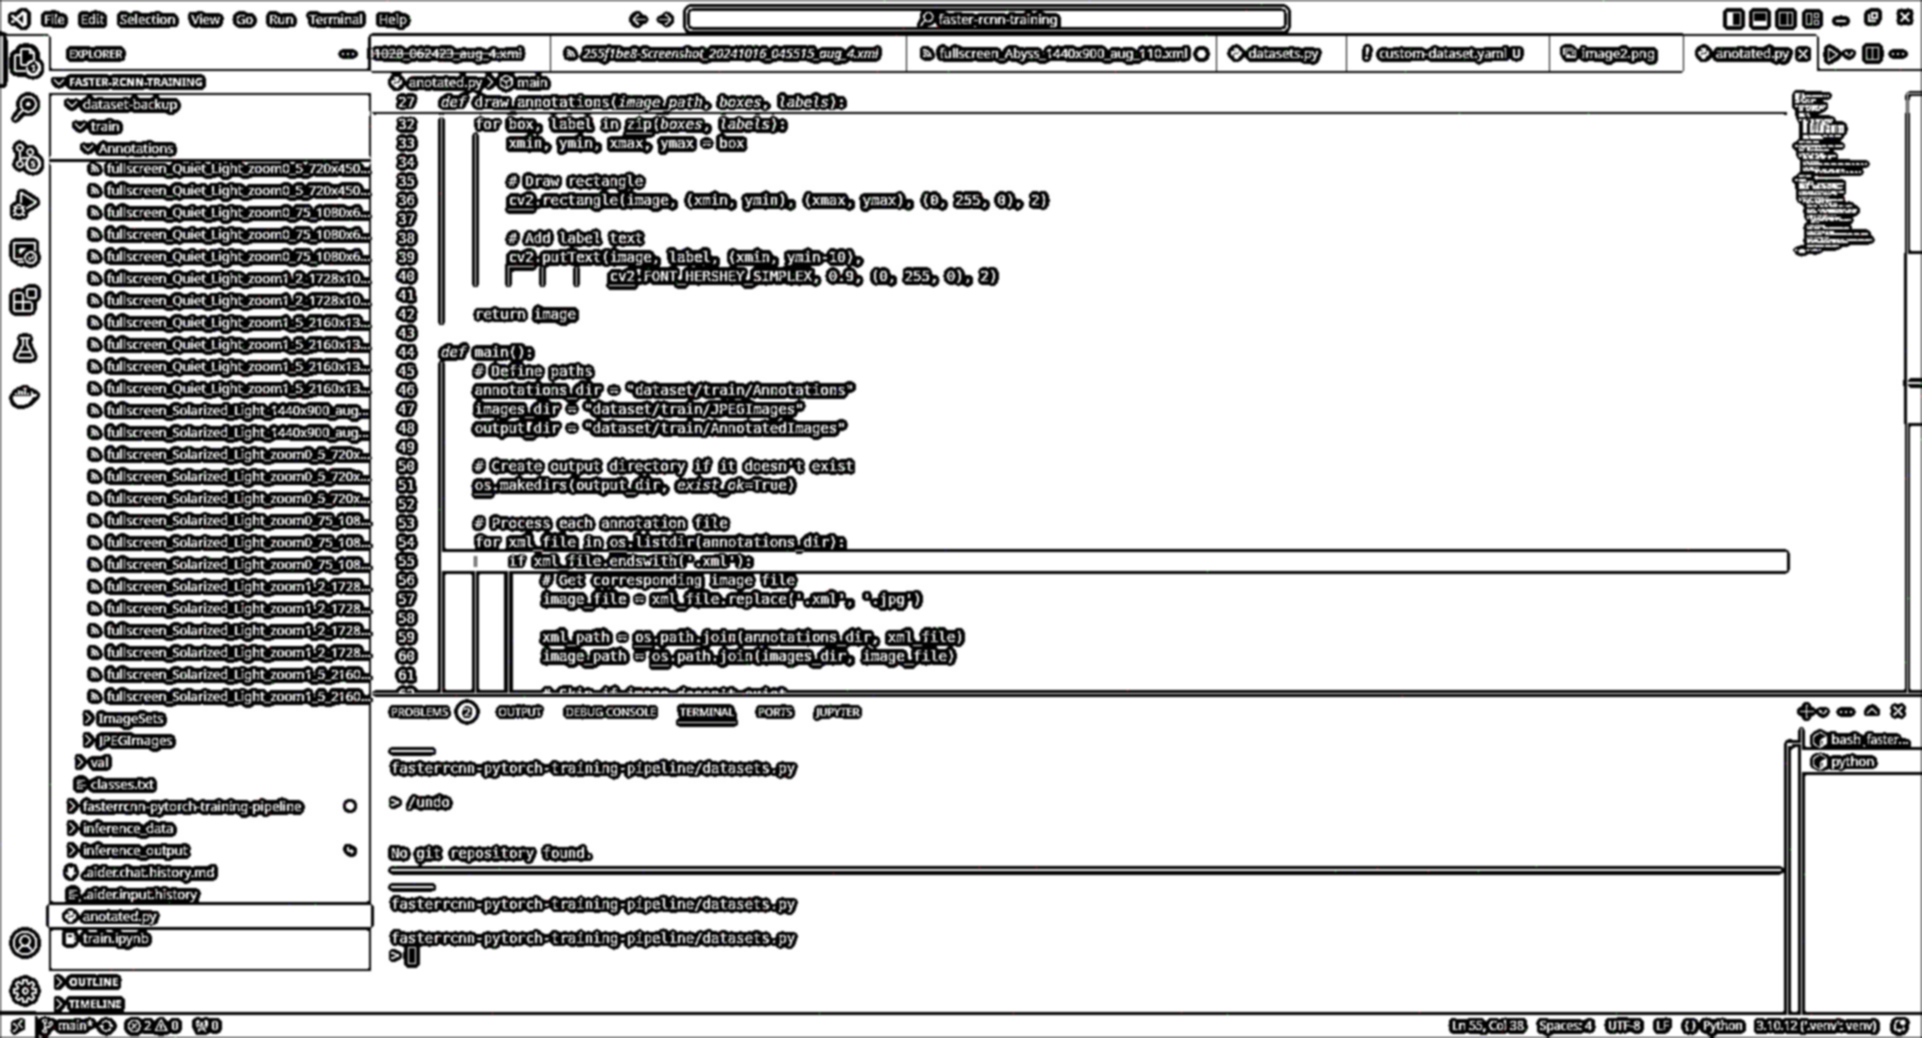Accounts: (6, 926, 40, 961)
Activity Bar: (3, 40, 49, 1014)
Close: (1895, 3, 1916, 28)
Explorer: (6, 45, 43, 81)
Extensions: (4, 277, 41, 314)
Manage: (6, 978, 38, 1005)
Maximize: (1864, 4, 1885, 26)
Minimize: (1826, 6, 1850, 31)
Panel: (368, 36, 1919, 695), (371, 695, 1919, 1018)
Primary Side Bar: (49, 40, 371, 1012)
Run and Debug: (6, 188, 40, 221)
Search: (6, 88, 40, 121)
Search Bar: (680, 4, 1292, 32)
Source Control: (9, 130, 42, 176)
Status Bar: (1, 1018, 1919, 1035)
Testing: (6, 329, 38, 362)
Top Bar: (3, 1, 1919, 38)
